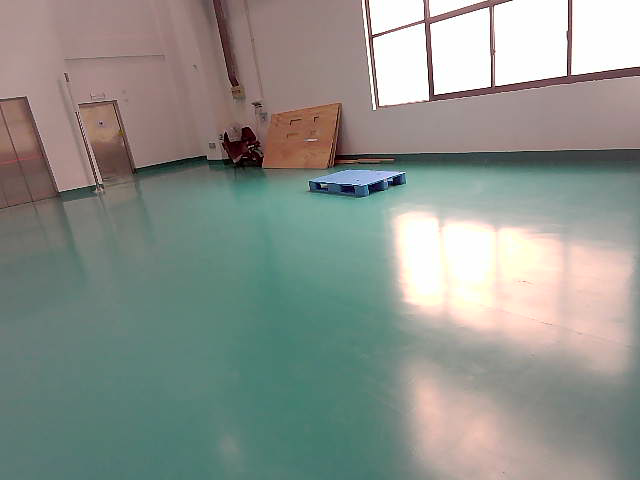block: (354, 184, 369, 197), (328, 183, 341, 191), (309, 181, 319, 190), (381, 178, 389, 189), (399, 173, 406, 185)
front: (365, 173, 405, 195)
hole pallet: (375, 174, 402, 184), (387, 175, 402, 189), (368, 182, 384, 195)
